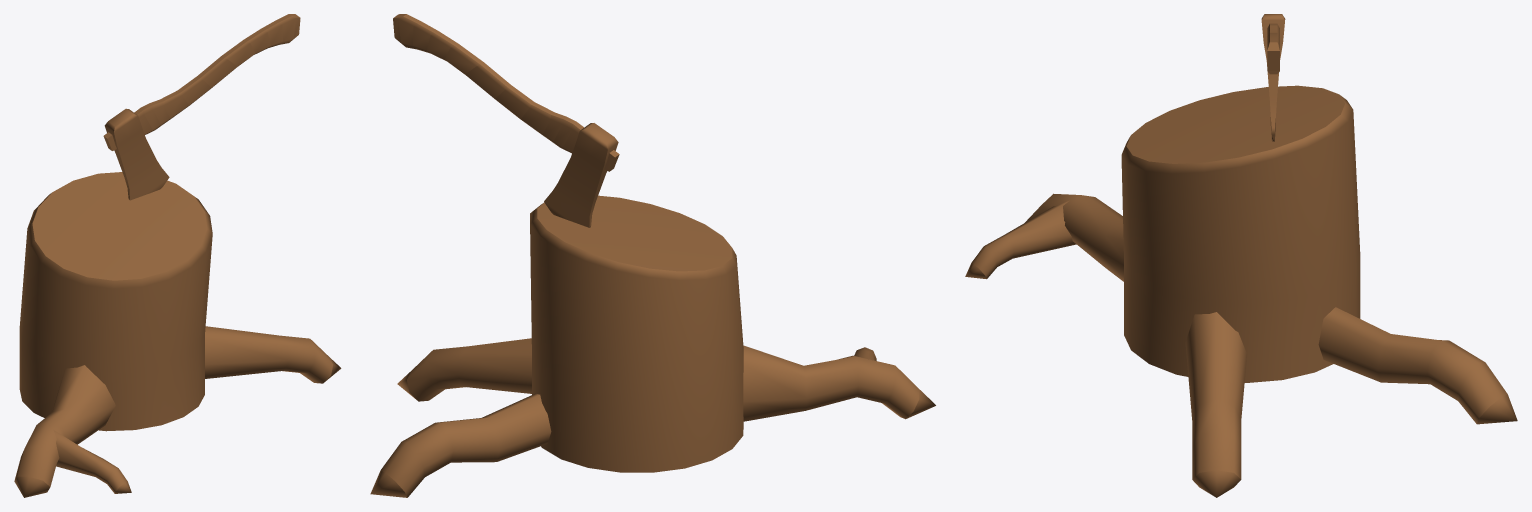
File: Axe.fbx
The picture shows the model from 3 angles, left to right: view 1: azimuth 30°, elevation 25°; view 2: azimuth 150°, elevation 25°; view 3: azimuth 270°, elevation 25°; orthographic projection. The views are drawn at different scales.
Visible parts, largest first — view 1: Axe; view 2: Axe; view 3: Axe.
Part boxes in pixels (bbox=[...]): Axe: bbox=[14, 14, 341, 497]; Axe: bbox=[370, 14, 935, 497]; Axe: bbox=[965, 14, 1517, 497].
Bounding box in the file's own units: 1.32 × 1.13 × 1.26.
